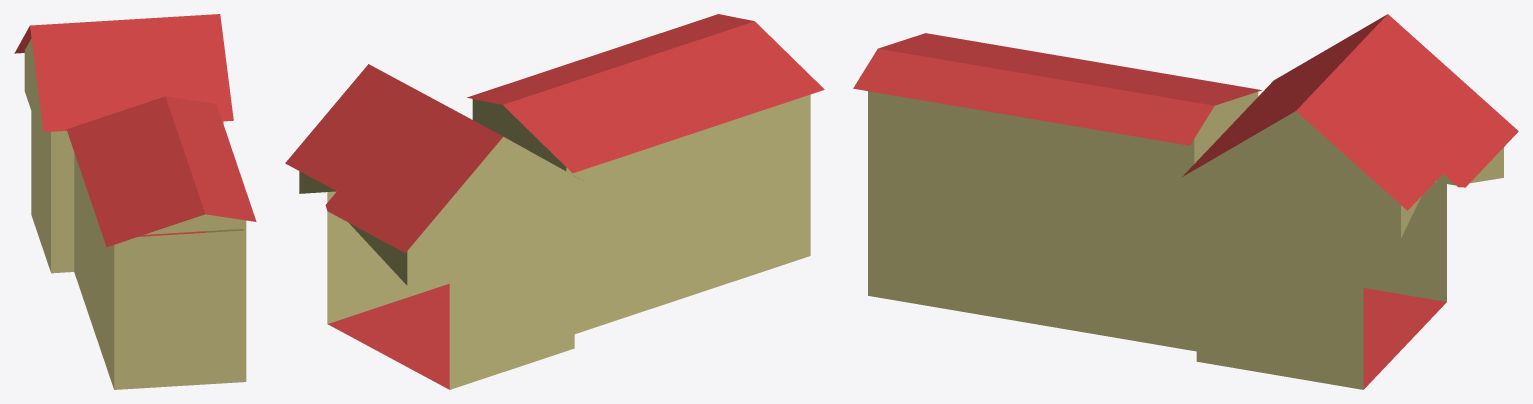
3 views of the same model, side by side, from view 1: azimuth 30°, elevation 25°; view 2: azimuth 150°, elevation 25°; view 3: azimuth 270°, elevation 25° (orthographic). The views are drawn at different scales.
Size of the model in its own units: 18.46 by 28.76 by 13.
